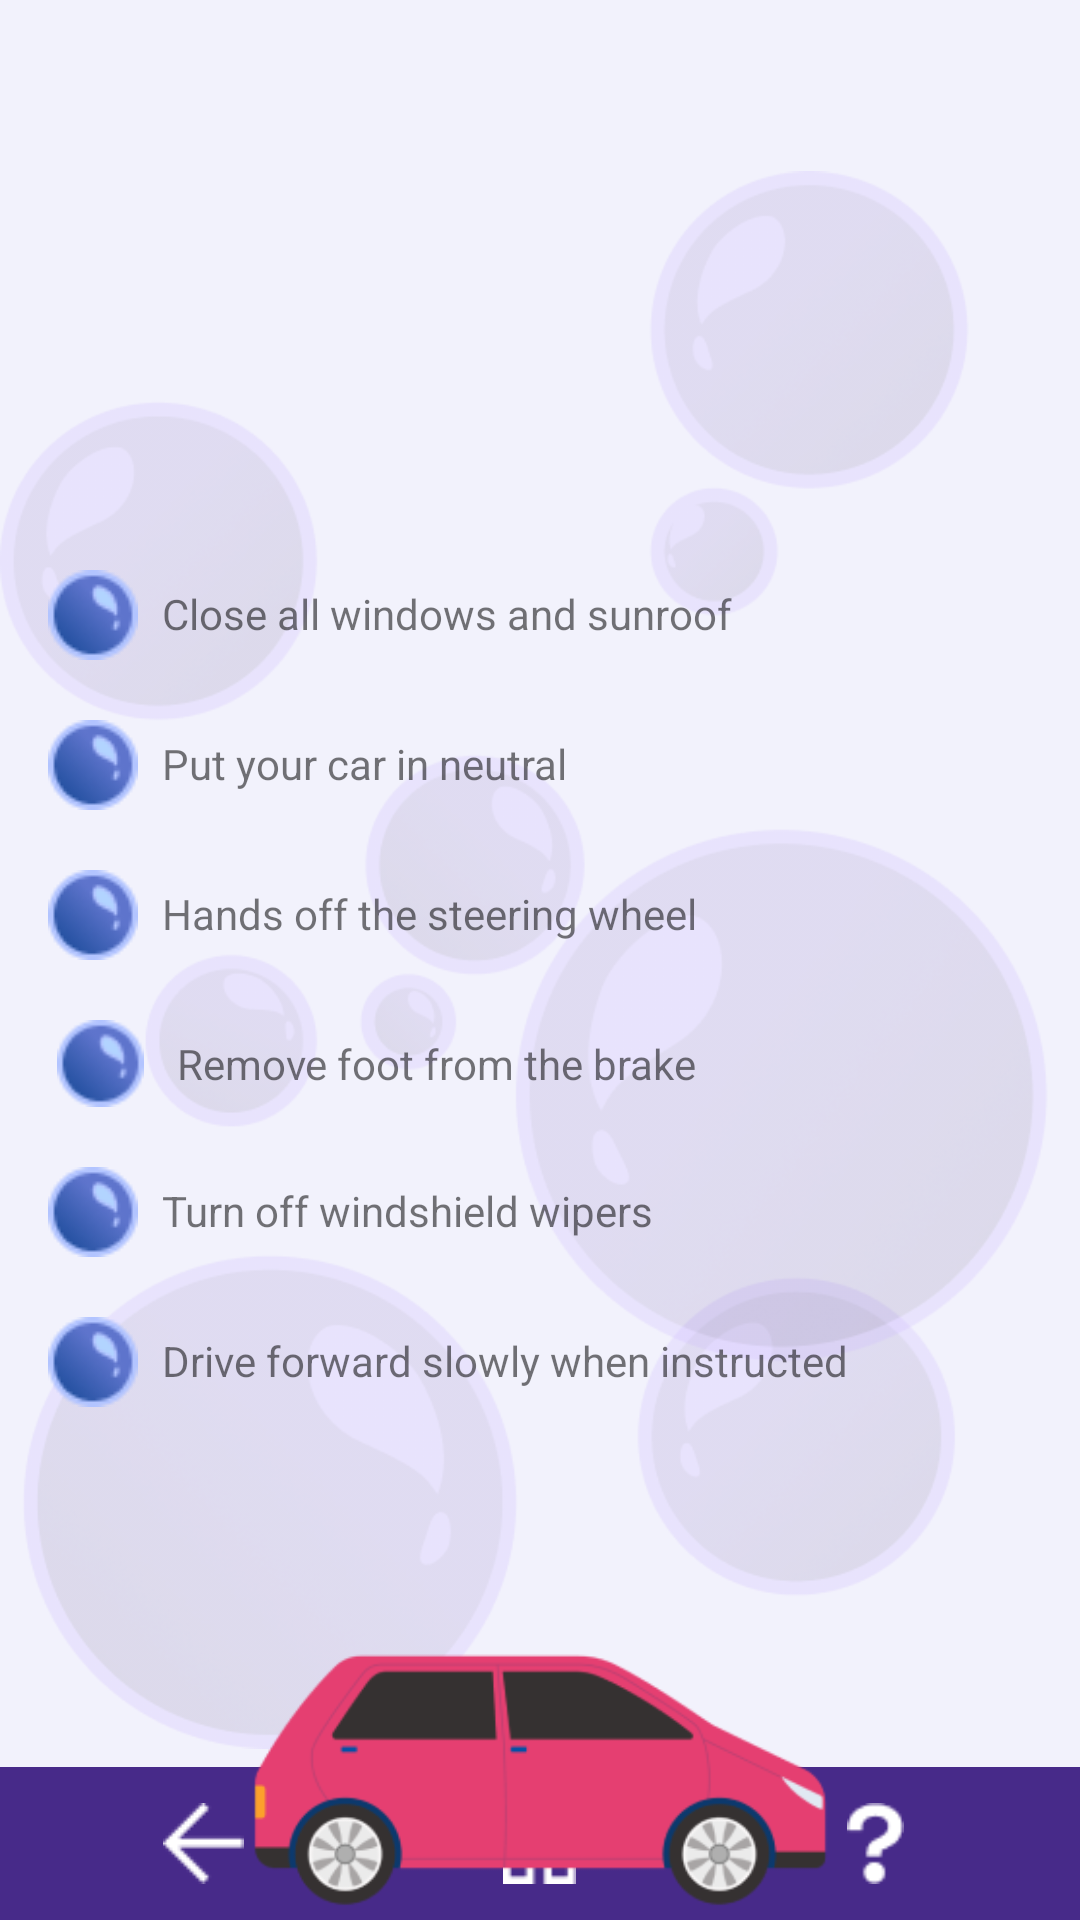

Locate icon controls on the screen. Image size 1080 × 1920, boxes as (x1, y1, x2, y2).
Back Button: (163, 1803, 244, 1884)
bubble bullet point: (48, 570, 138, 660), (48, 720, 138, 810), (48, 870, 138, 960), (57, 1020, 144, 1107), (48, 1167, 138, 1257), (48, 1317, 138, 1407)
Help Button: (847, 1803, 904, 1884)
